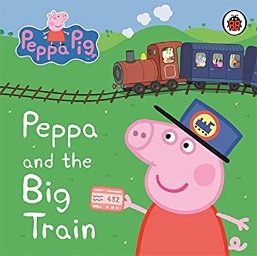Peppa: (117, 100, 249, 255)
